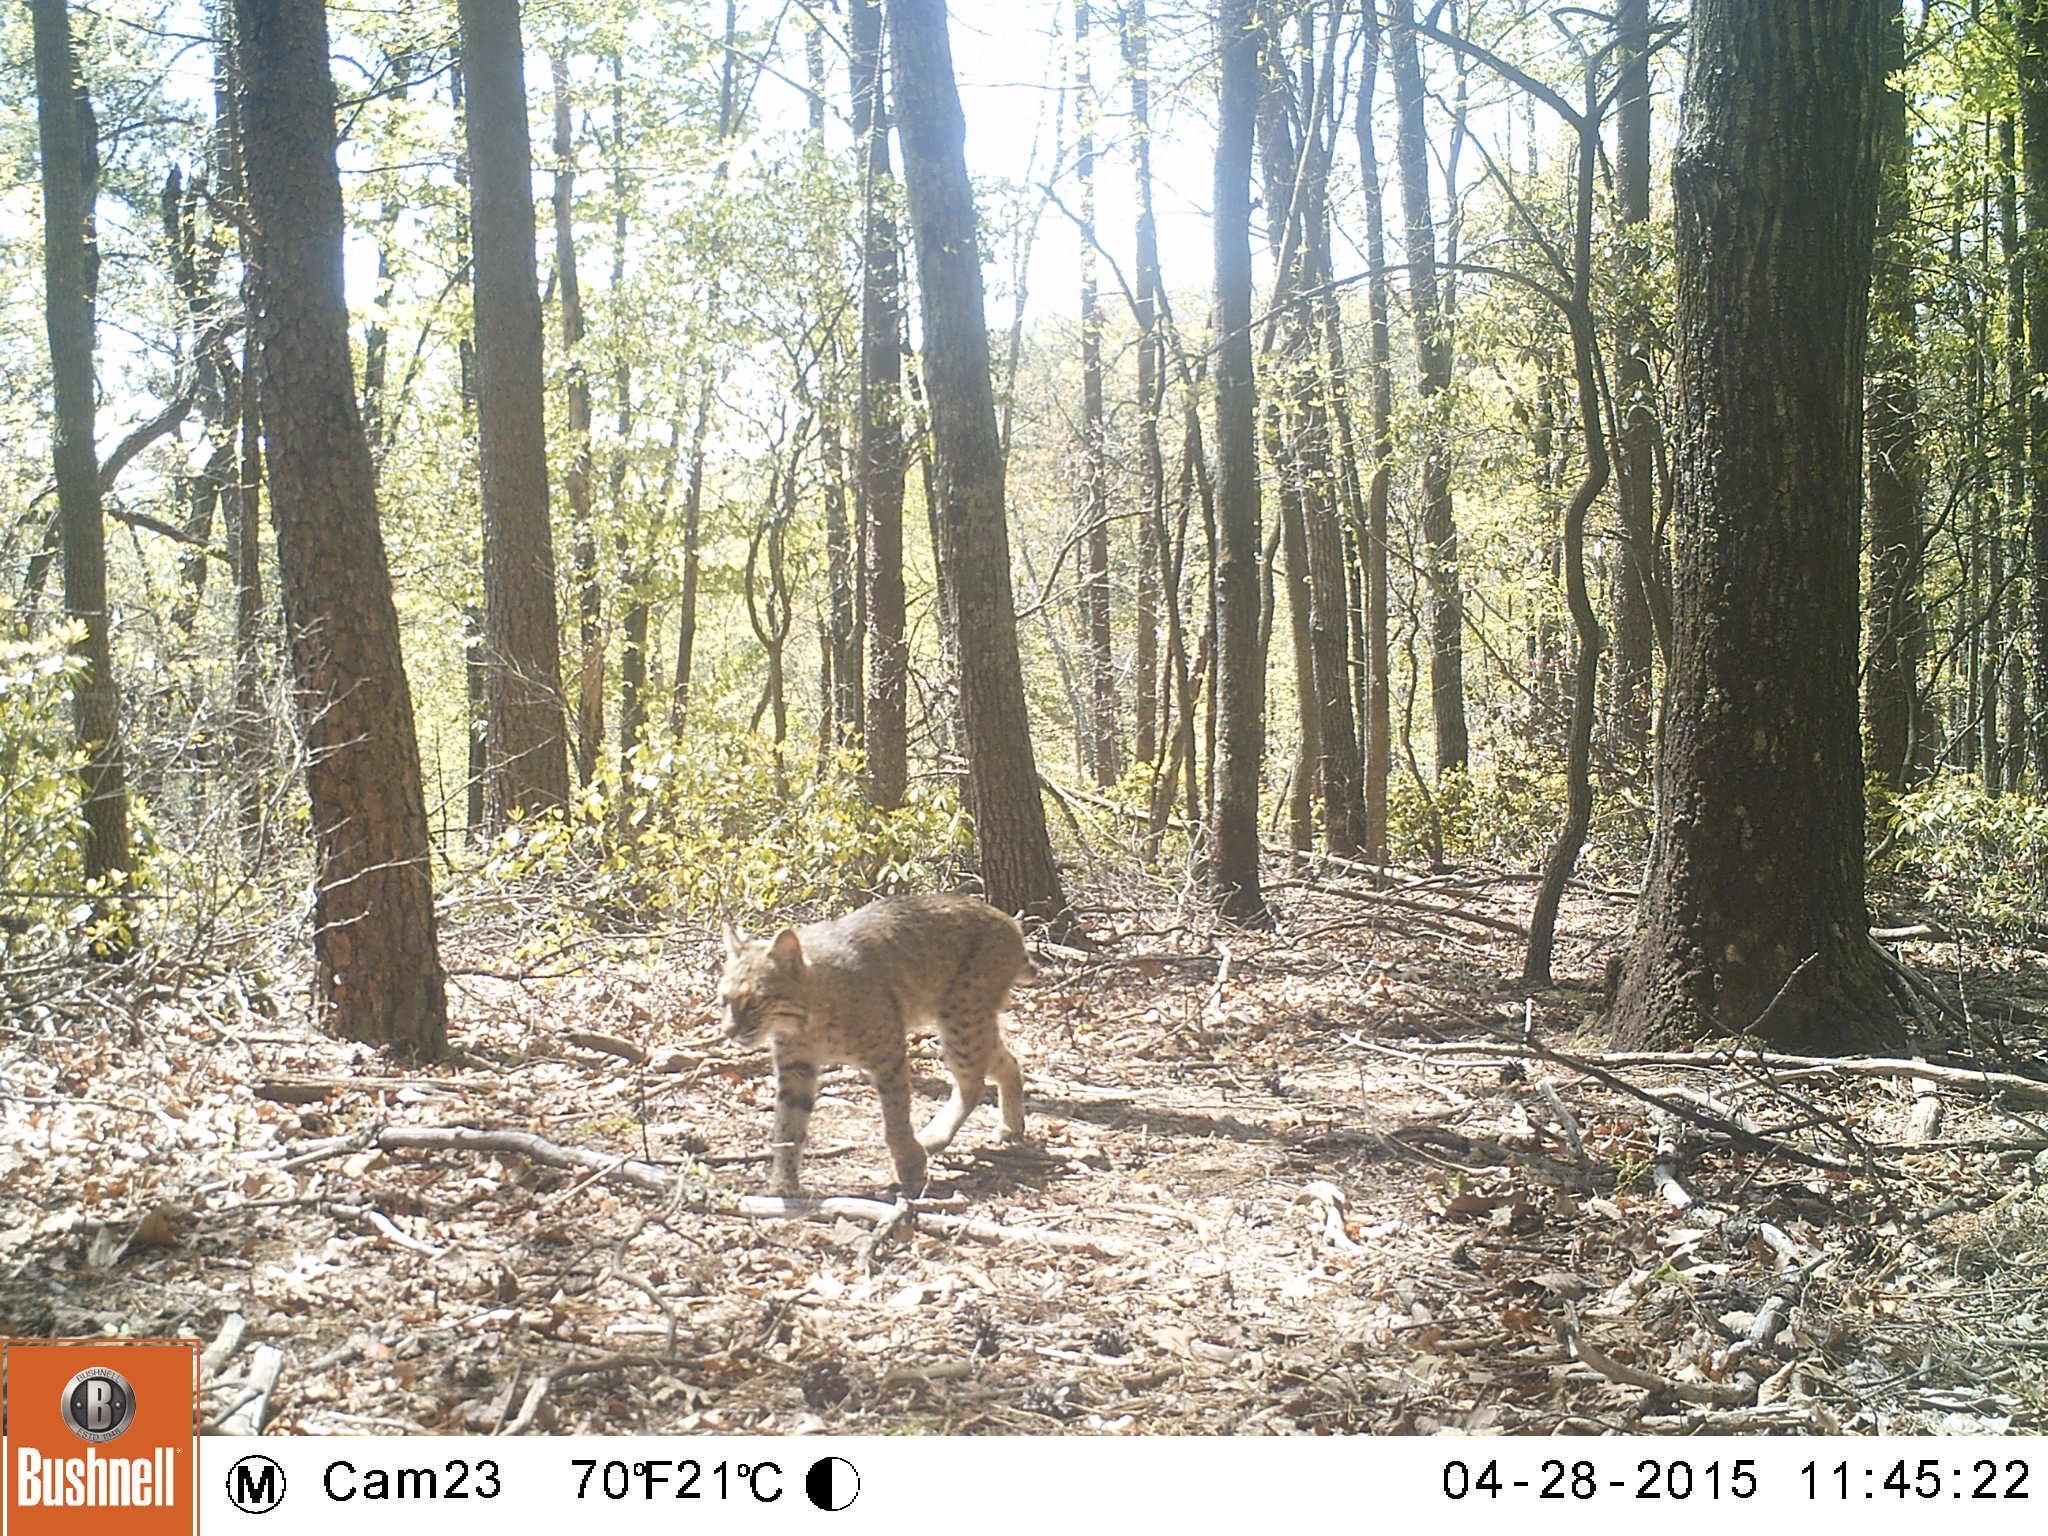Animal: (718, 892, 1034, 1204)
